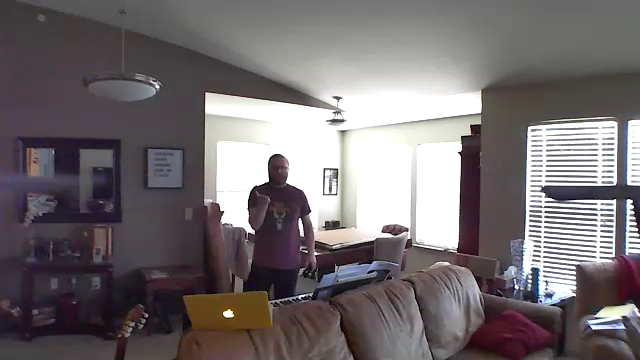land: (247, 188, 275, 205)
